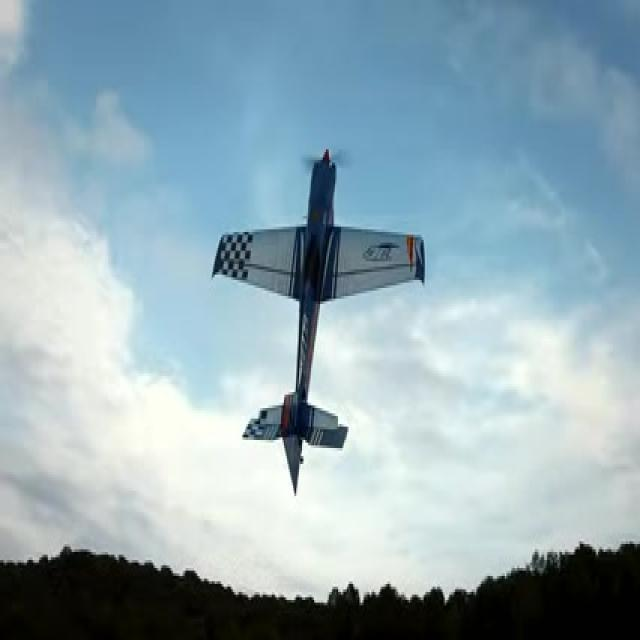iha: (210, 148, 426, 492)
